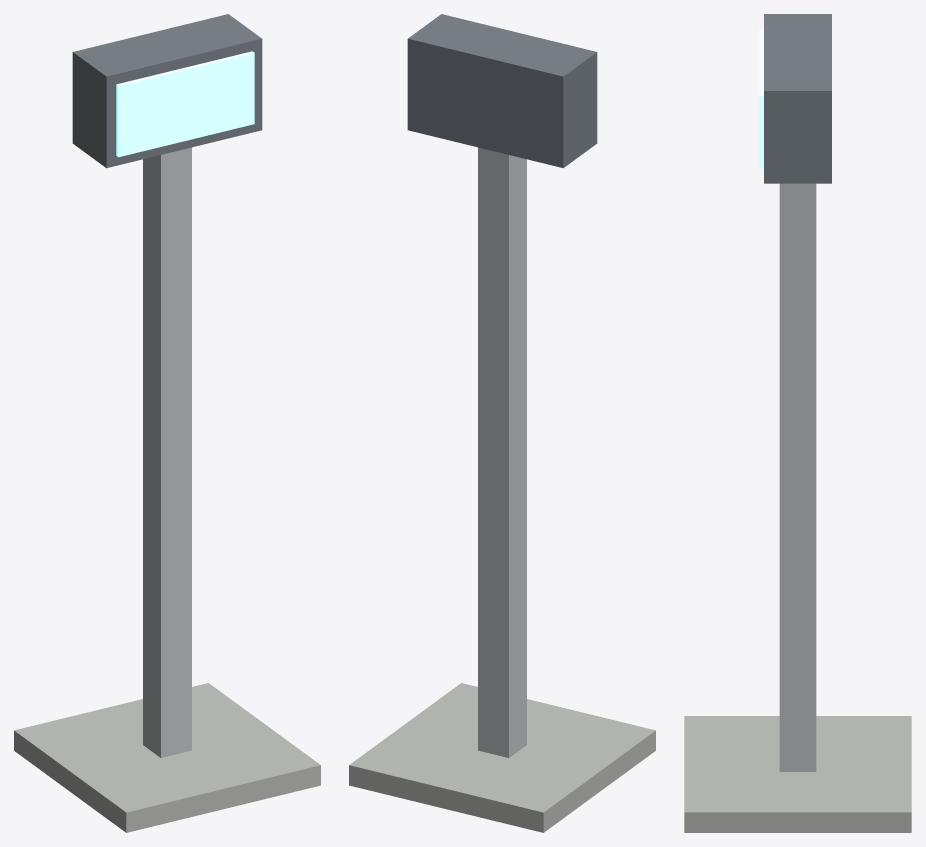
Rendered from mech-hangar-and-battle-frames-spotlight-tower-f5a5c05e__26988.glb.
3 views of the same model, side by side, from view 1: azimuth 30°, elevation 25°; view 2: azimuth 150°, elevation 25°; view 3: azimuth 270°, elevation 25° (orthographic).
Visible parts, largest first — view 1: spotlight-tower; view 2: spotlight-tower; view 3: spotlight-tower.
Boxes of the visible parts, left/top/right/bottom form: spotlight-tower: left=14, top=14, right=320, bottom=832; spotlight-tower: left=349, top=14, right=655, bottom=832; spotlight-tower: left=684, top=14, right=911, bottom=832.
Bounding box in the file's own units: 1 × 3.55 × 1.
